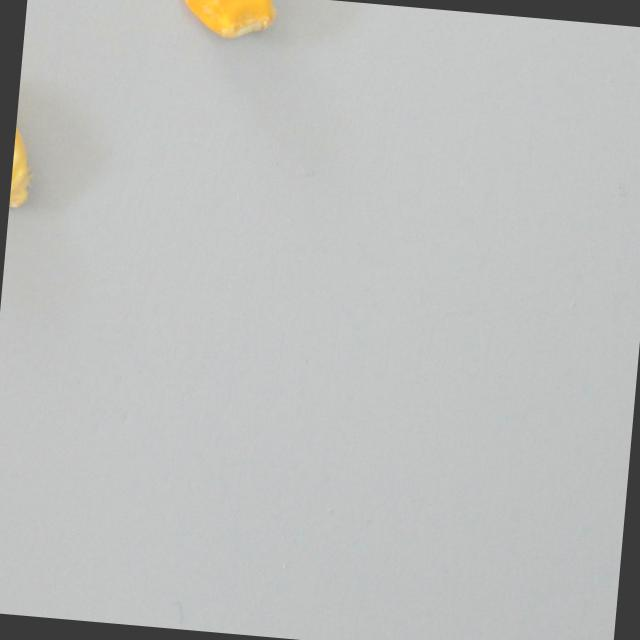entero: (8, 66, 48, 217)
pelicula: (175, 0, 282, 47)
